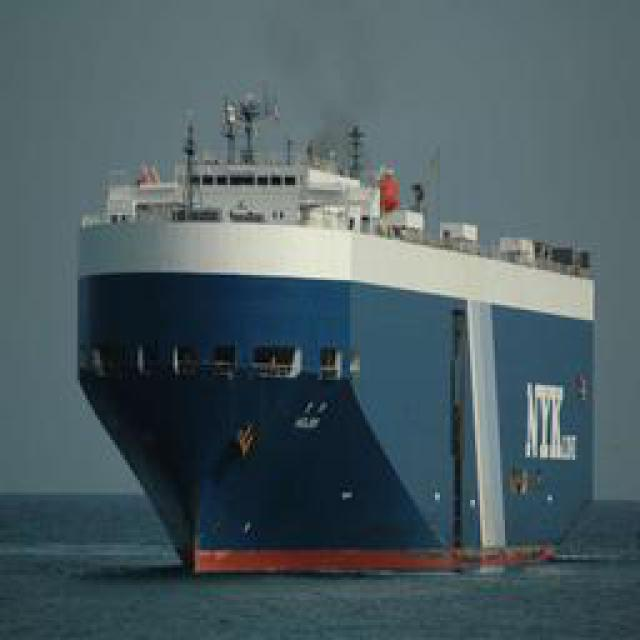Ship: (47, 60, 613, 579)
